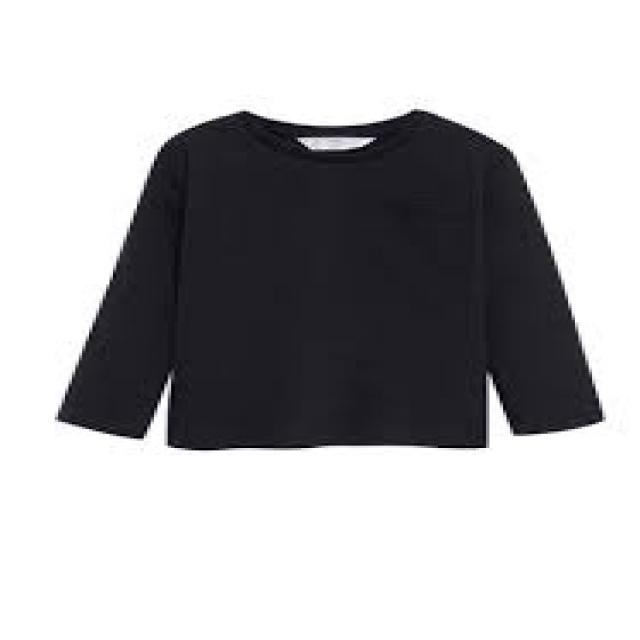plain: (53, 102, 599, 452)
